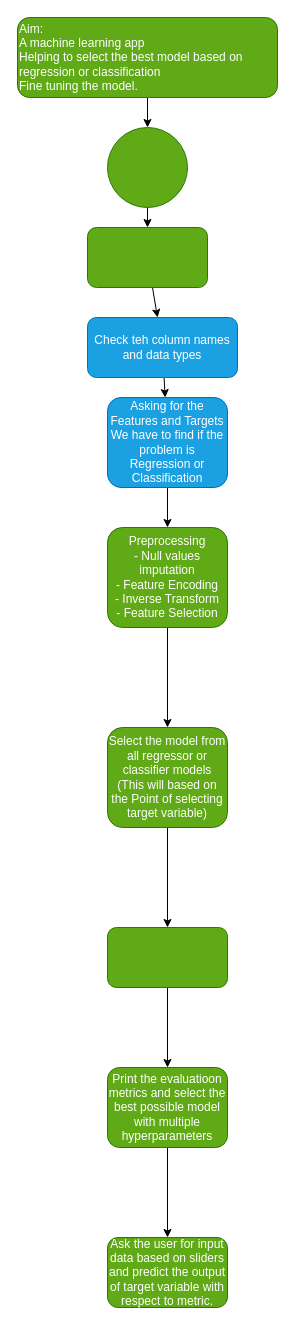
The diagram is 295 pixels wide and 1326 high, and some of its shapes have lost their labels. The shapes that lost their labels are listed below. From the top down, each one's centre as x and y in pixels, then its label:
At pixel 147 167: "Load the Data or Uplaod the data".
At pixel 147 257: "Example Data button".
At pixel 167 957: "Add the evaluation metrics based on the problem".
